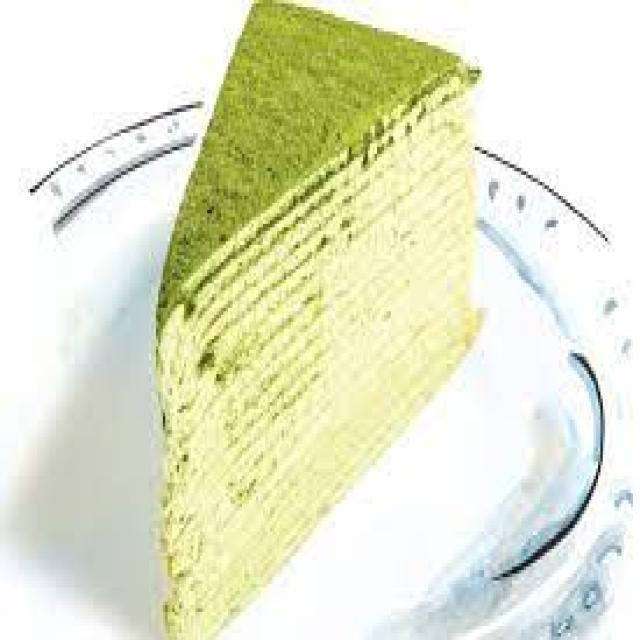Wet Waste: (134, 10, 486, 616)
